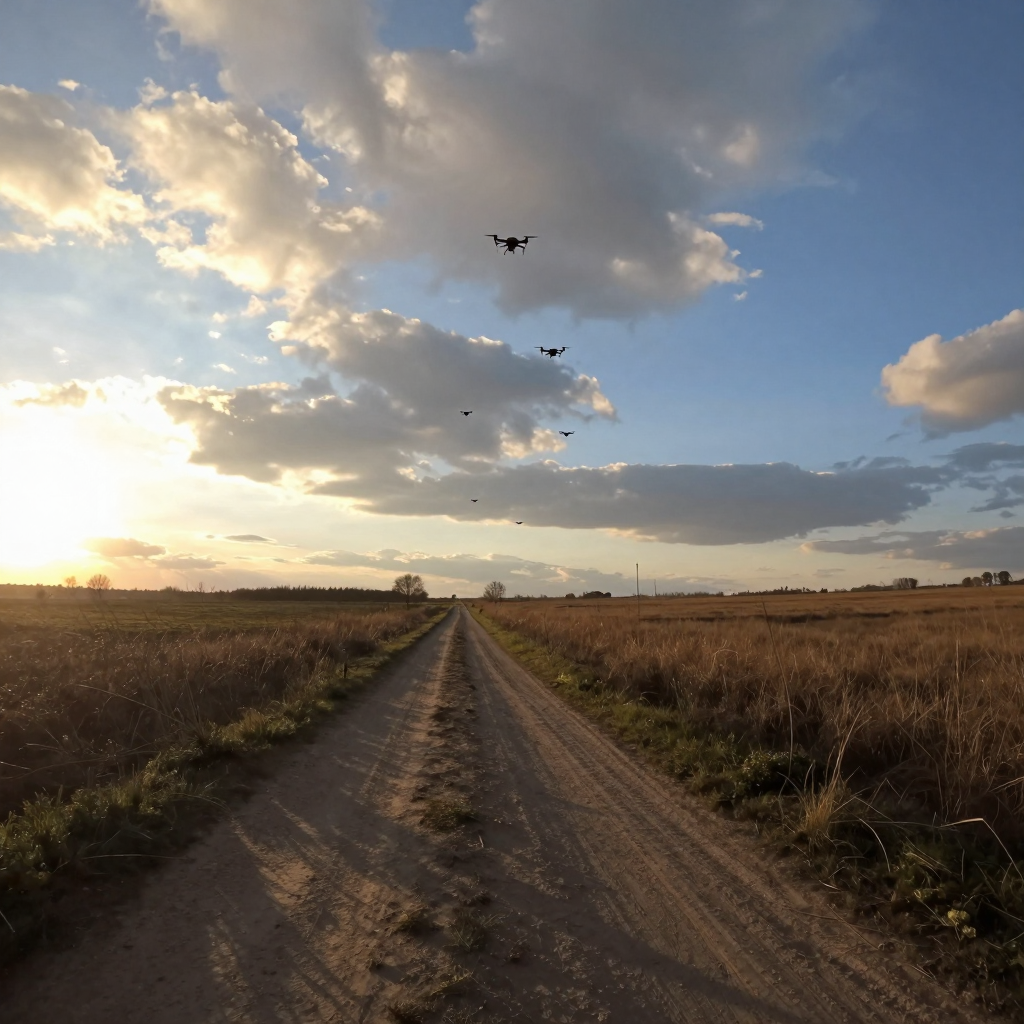drone: (485, 231, 538, 255), (534, 346, 571, 358), (559, 431, 575, 437), (460, 411, 473, 416), (470, 499, 478, 502)
